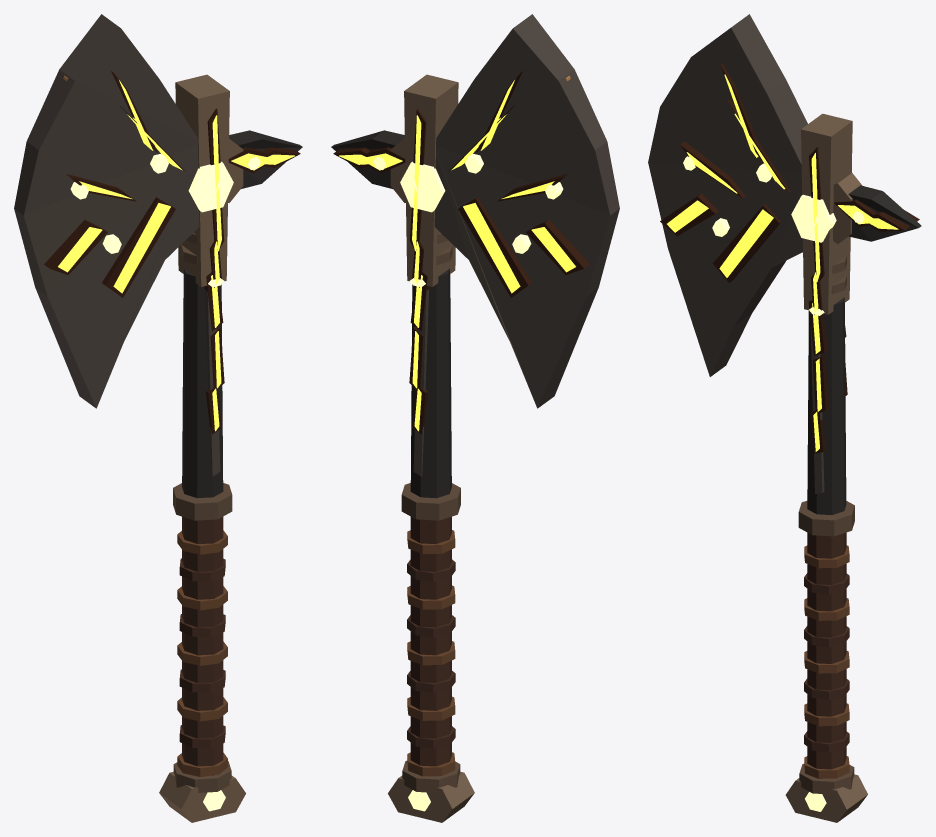
File: Hellforged_Talon.fbx
3 renders of one model, left to right at view 1: azimuth 30°, elevation 25°; view 2: azimuth 150°, elevation 25°; view 3: azimuth 330°, elevation 25°, orthographic. The views are drawn at different scales.
Parts seen in each view (by area): view 1: Main_Blade_Body, Grip_Core, Main_Haft, Head_Sleeve, Pommel_Stone, Grip_Upper_Collar, Blight_Core, Blade_Branch_02_Crack, Rear_Spike_Body, Blade_Branch_02_Glow, Blade_Branch_04_Crack, Grip_Lower_Collar (+12 smaller); view 2: Main_Blade_Body, Grip_Core, Main_Haft, Head_Sleeve, Pommel_Stone, Grip_Upper_Collar, Blight_Core, Blade_Branch_02_Crack, Rear_Spike_Body, Blade_Branch_02_Glow, Blade_Branch_04_Crack, Grip_Lower_Collar (+12 smaller); view 3: Main_Blade_Body, Grip_Core, Head_Sleeve, Main_Haft, Pommel_Stone, Rear_Spike_Body, Grip_Upper_Collar, Blight_Core, Blade_Branch_02_Crack, Rear_Spike_Base, Blade_Branch_02_Glow, Grip_Lower_Collar (+10 smaller).
Part boxes in pixels (x1,y1,x2,y2): Main_Blade_Body: (14,14,199,408); Grip_Core: (182,516,223,775); Main_Haft: (182,268,223,498); Head_Sleeve: (175,74,229,286); Pommel_Stone: (159,771,245,822); Grip_Upper_Collar: (173,483,232,520); Blight_Core: (188,161,233,212); Blade_Branch_02_Crack: (102,197,175,297); Rear_Spike_Body: (229,130,302,188); Blade_Branch_02_Glow: (113,203,170,293); Blade_Branch_04_Crack: (44,219,107,274); Grip_Lower_Collar: (173,761,231,792); Main_Blade_Body: (434,14,619,408); Grip_Core: (410,516,451,766); Main_Haft: (410,268,451,498); Head_Sleeve: (404,74,458,286); Pommel_Stone: (388,771,474,822); Grip_Upper_Collar: (401,483,460,520); Blight_Core: (400,161,445,212); Blade_Branch_02_Crack: (458,197,531,297); Rear_Spike_Body: (331,130,404,188); Blade_Branch_02_Glow: (463,203,520,293); Blade_Branch_04_Crack: (526,219,589,274); Grip_Lower_Collar: (402,760,460,792); Main_Blade_Body: (648,14,807,376); Grip_Core: (807,532,846,769); Head_Sleeve: (801,113,852,314); Main_Haft: (807,297,846,514); Pommel_Stone: (785,774,867,822); Rear_Spike_Body: (848,185,921,241); Grip_Upper_Collar: (798,501,854,536); Blight_Core: (791,194,836,242); Blade_Branch_02_Crack: (713,204,780,282); Rear_Spike_Base: (833,173,862,244); Blade_Branch_02_Glow: (719,209,773,277); Grip_Lower_Collar: (799,764,854,794).
Bounding box in the file's own units: 43.62 × 120 × 8.2.
